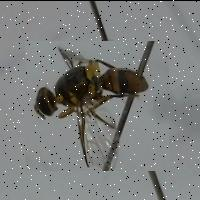Oriental-fruit-fly: (25, 39, 169, 169)
